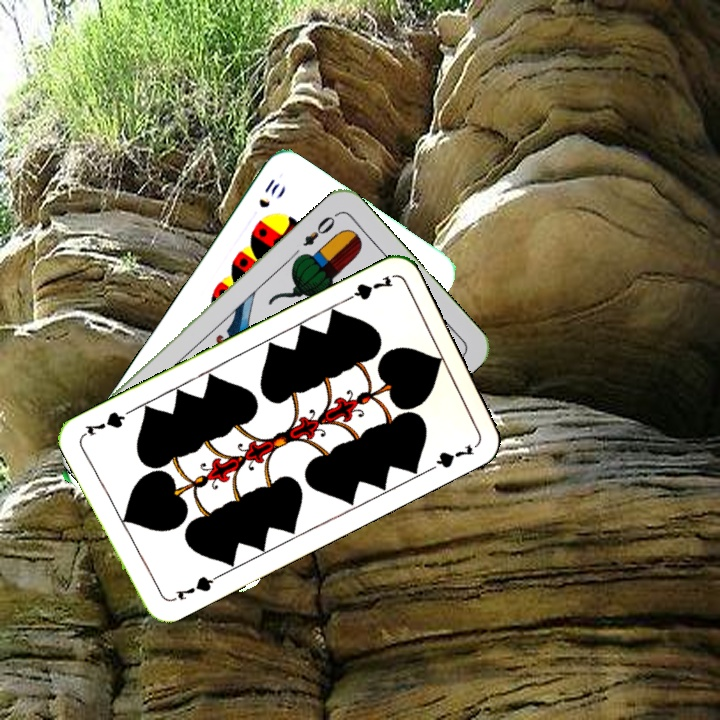EO: (299, 209, 341, 249)
G7: (338, 271, 396, 306), (165, 571, 221, 605)
S10: (254, 174, 283, 211)
